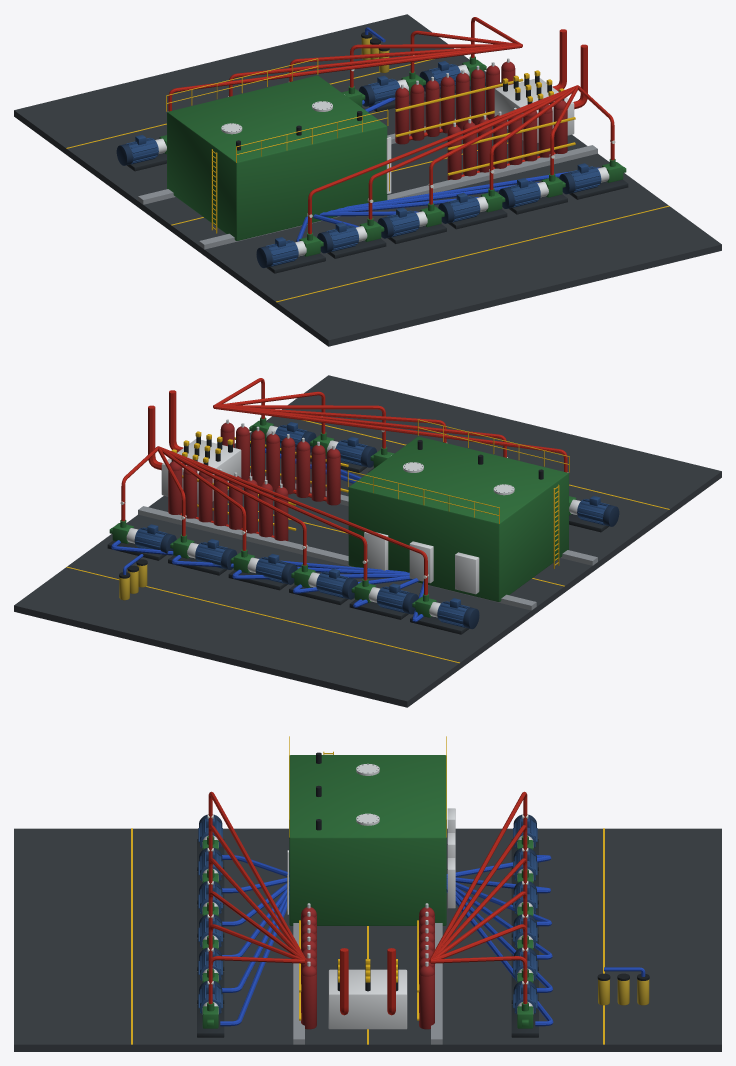
Rendered from hpu.glb.
3 views of the same model, one above another, from view 1: azimuth 30°, elevation 25°; view 2: azimuth 150°, elevation 25°; view 3: azimuth 270°, elevation 25° (orthographic). The views are drawn at different scales.
Visible parts, largest first — view 1: floor, resv, pumps, accB, vblk, filt; view 2: floor, resv, pumps, accB, vblk, filt; view 3: floor, resv, pumps, vblk, accB, filt.
Boxes of the visible parts, x1,y1,x2,y2 form: floor: (14,14,721,346); resv: (166,58,391,240); pumps: (116,17,628,273); accB: (395,58,575,180); vblk: (494,29,587,142); filt: (361,27,389,72); floor: (14,375,721,707); resv: (347,419,569,601); pumps: (107,378,619,634); accB: (168,419,348,541); vblk: (148,390,241,503); filt: (119,554,147,600); floor: (14,828,721,1051); resv: (287,736,455,925); pumps: (197,791,553,1037); vblk: (328,948,407,1029); accB: (299,903,434,1029); filt: (597,967,649,1005).
Bounding box in the file's own units: 26.82 × 6.53 × 36.
